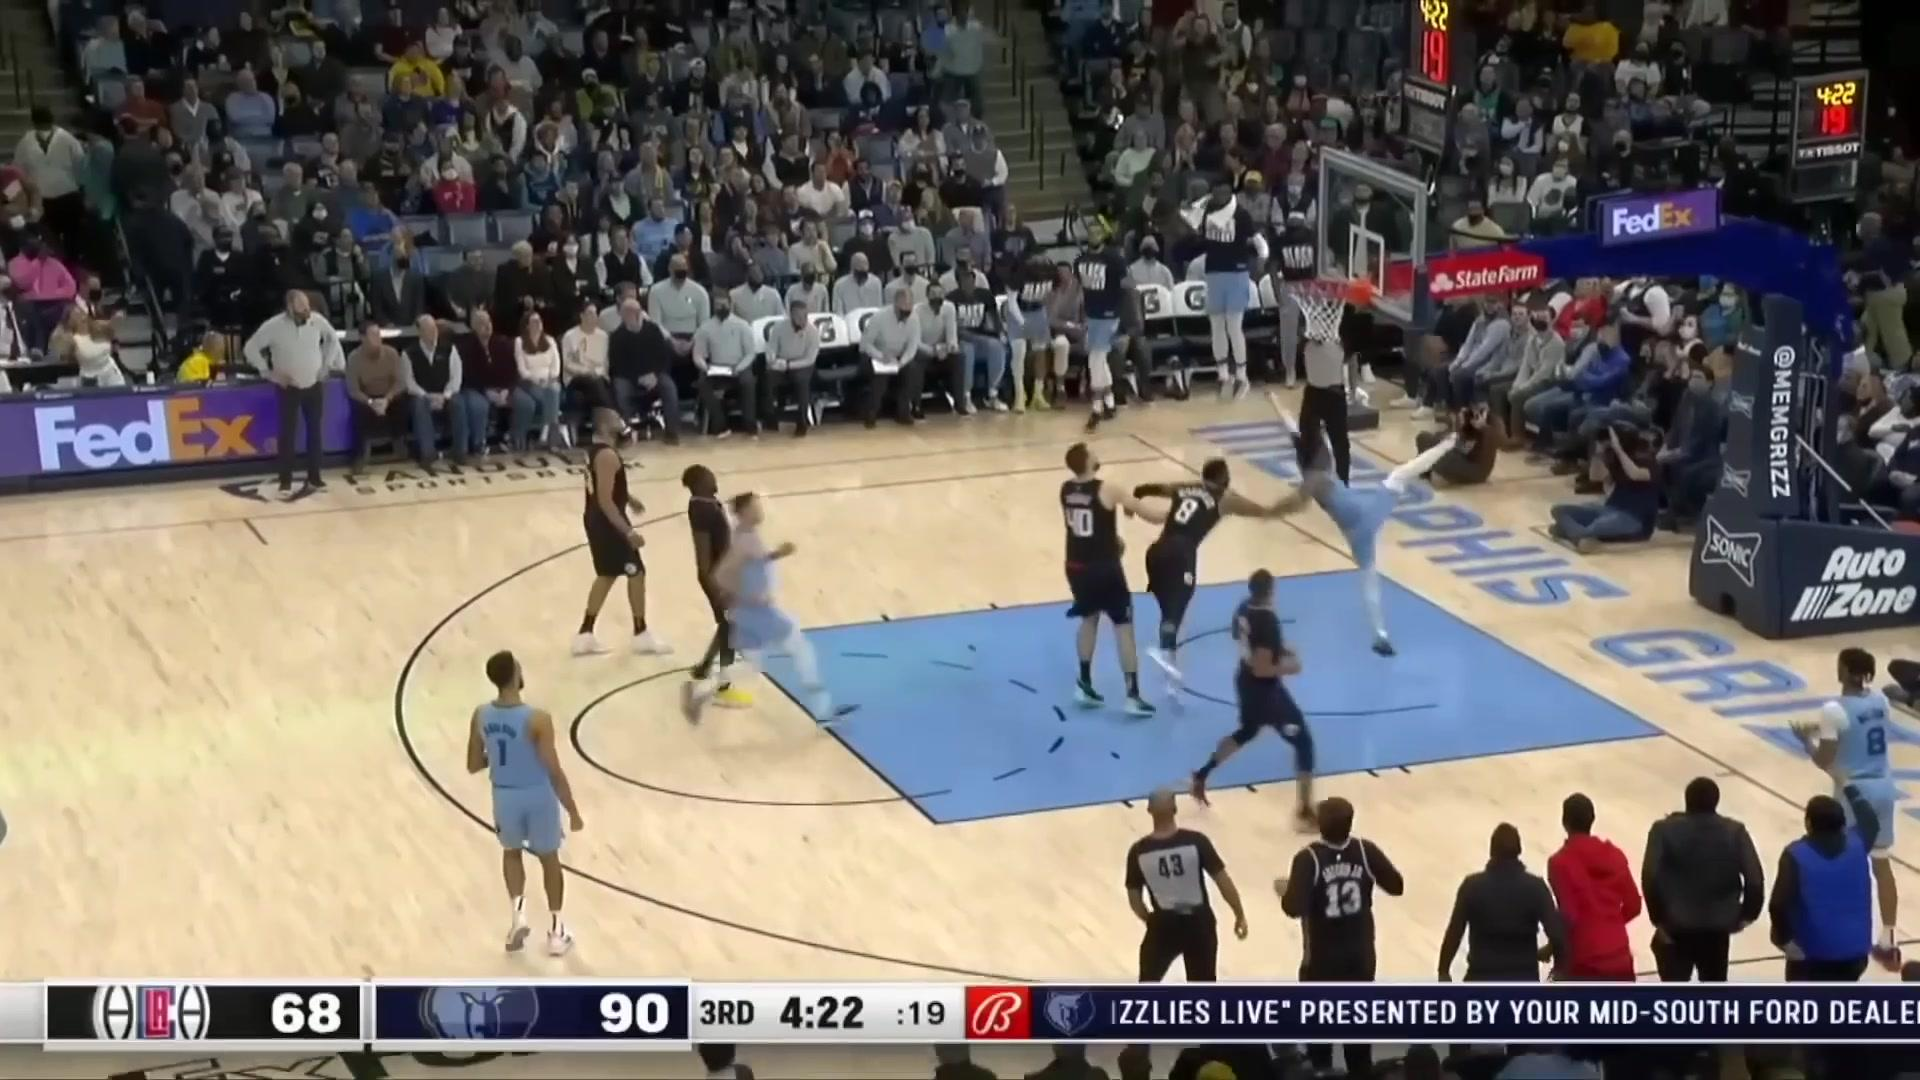foul: (1116, 405, 1429, 661)
